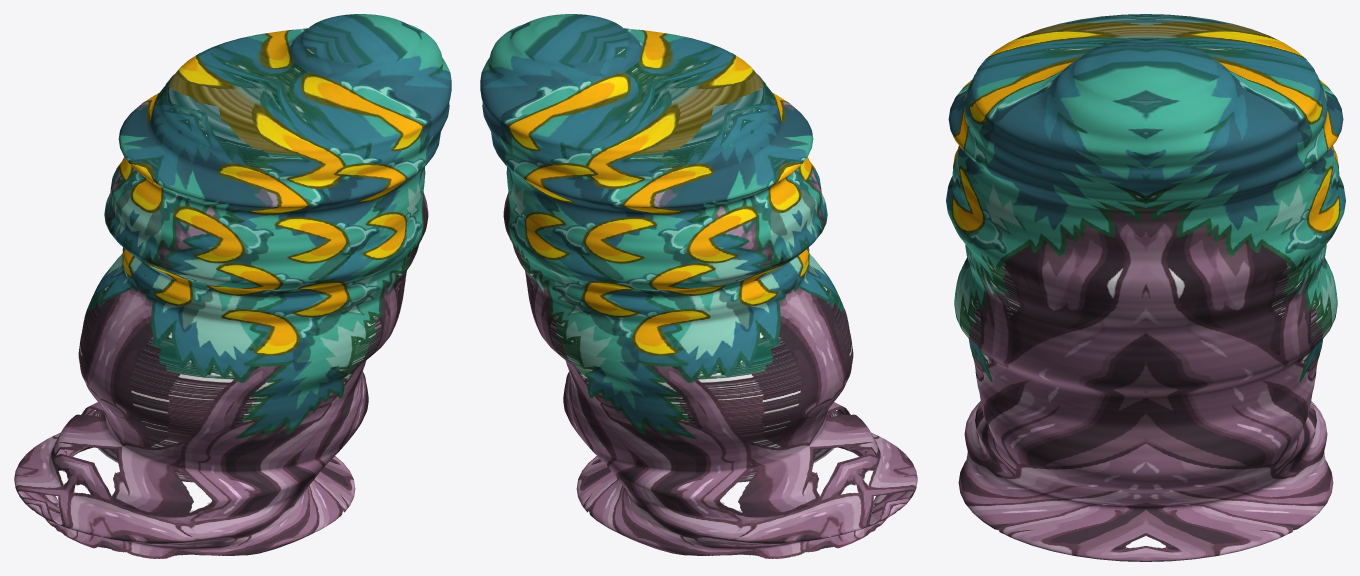
The model's file is crescent_tree.glb.
The picture shows the model from 3 angles, left to right: view 1: azimuth 30°, elevation 25°; view 2: azimuth 150°, elevation 25°; view 3: azimuth 270°, elevation 25°; orthographic projection. The views are drawn at different scales.
Visible parts, largest first — view 1: crescent_tree; view 2: crescent_tree; view 3: crescent_tree.
Boxes of the visible parts, box(x1,y1,x2,y2) form: crescent_tree: box(14, 14, 451, 558); crescent_tree: box(480, 14, 917, 558); crescent_tree: box(946, 14, 1345, 561).
Bounding box in the file's own units: 0.9514 × 0.9695 × 0.666.
Materials: 1 (1 with a texture image).
